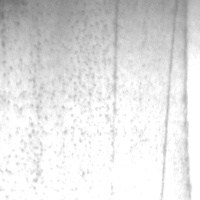pitted_surface: (0, 3, 113, 197)
